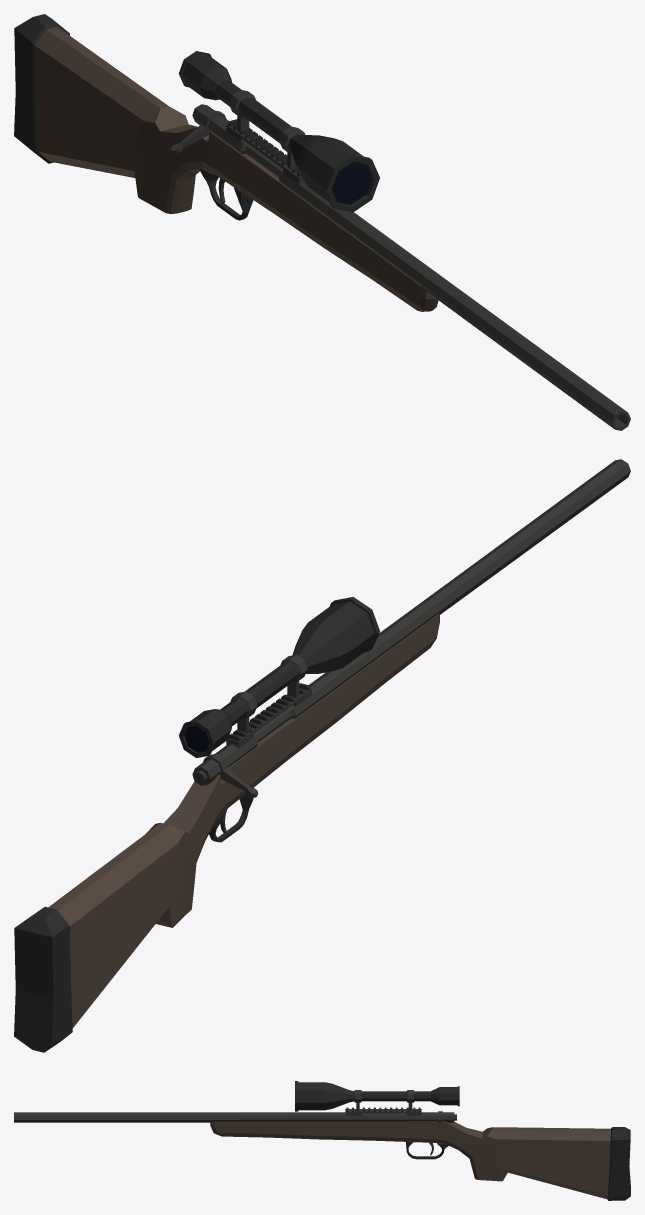
File: sniper-6.glb
3 renders of one model, top to bottom at view 1: azimuth 30°, elevation 25°; view 2: azimuth 150°, elevation 25°; view 3: azimuth 270°, elevation 25°, orthographic. The views are drawn at different scales.
Visible parts, largest first — view 1: sniper-6; view 2: sniper-6; view 3: sniper-6.
Part boxes in pixels (x1,y1,x2,y2): sniper-6: (14, 14, 630, 430); sniper-6: (14, 459, 630, 1052); sniper-6: (14, 1081, 630, 1200).
Size of the model in its own units: 0.0812 by 0.2498 by 1.19.
